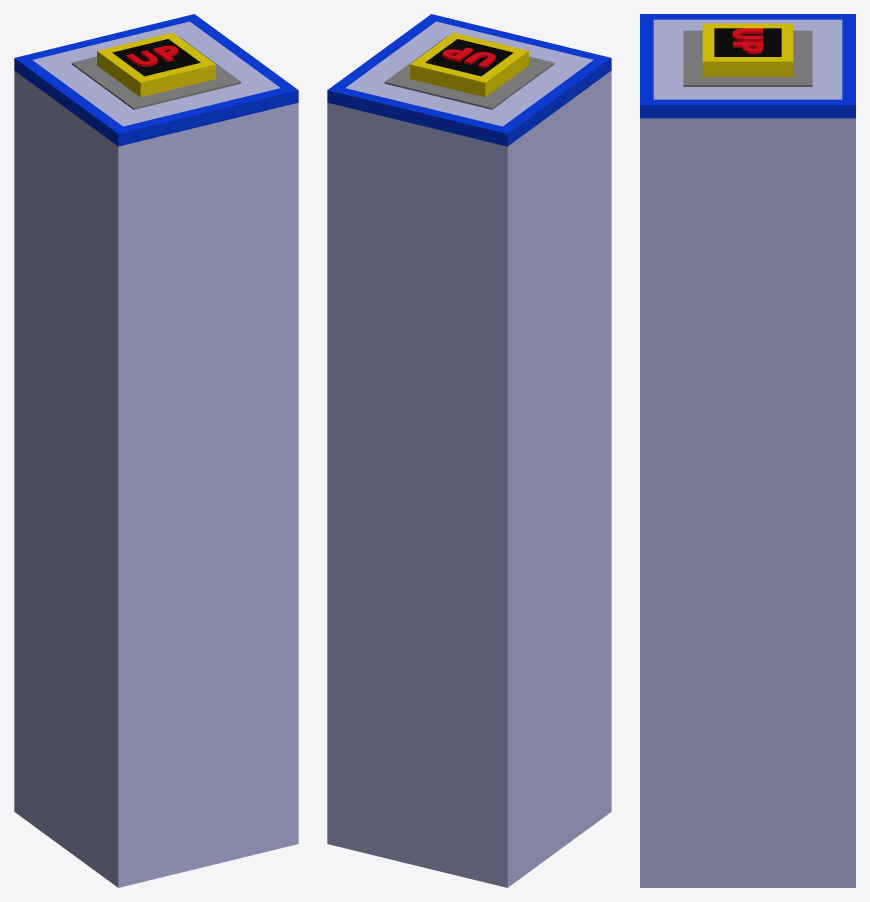
Rendered from blue_yellow_up.fbx.
3 renders of one model, left to right at view 1: azimuth 30°, elevation 25°; view 2: azimuth 150°, elevation 25°; view 3: azimuth 270°, elevation 25°, orthographic. The views are drawn at different scales.
Visible parts, largest first — view 1: blue_yellow_up; view 2: blue_yellow_up; view 3: blue_yellow_up.
Boxes of the visible parts, left/top/right/bottom form: blue_yellow_up: left=14, top=14, right=298, bottom=887; blue_yellow_up: left=327, top=14, right=611, bottom=887; blue_yellow_up: left=640, top=14, right=855, bottom=887.
Size of the model in its own units: 1 by 4.1 by 1.
